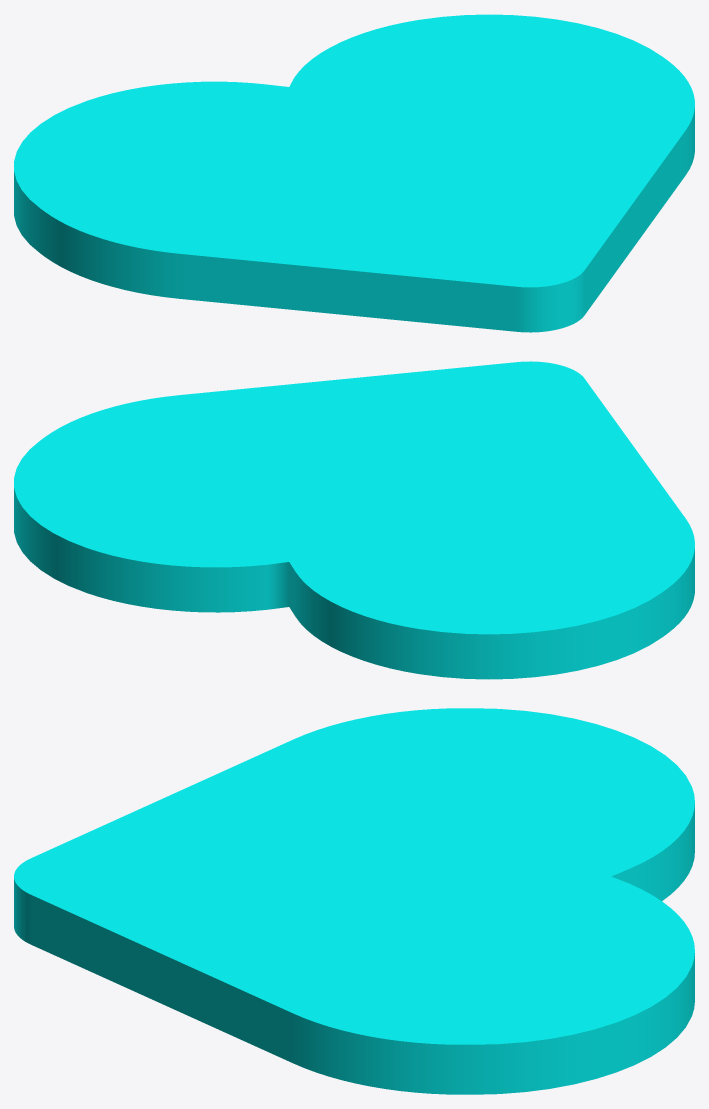
3 renders of one model, top to bottom at view 1: azimuth 30°, elevation 25°; view 2: azimuth 150°, elevation 25°; view 3: azimuth 270°, elevation 25°, orthographic. The views are drawn at different scales.
Parts seen in each view (by area): view 1: Curve; view 2: Curve; view 3: Curve.
Part boxes in pixels (x1=…): Curve: x1=14, y1=14, x2=694, y2=332; Curve: x1=14, y1=361, x2=694, y2=679; Curve: x1=14, y1=708, x2=694, y2=1094.
Size of the model in its own units: 0.1445 by 0.01 by 0.1235.
